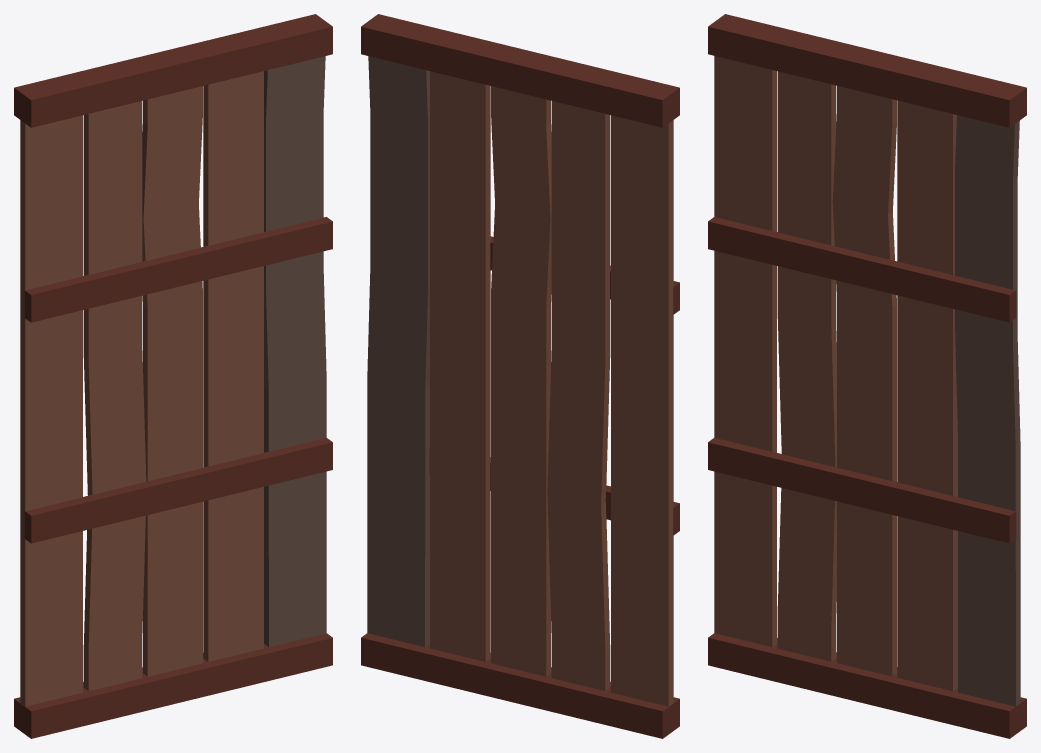
File: ScrapWall2.fbx
3 renders of one model, left to right at view 1: azimuth 30°, elevation 25°; view 2: azimuth 150°, elevation 25°; view 3: azimuth 330°, elevation 25°, orthographic.
Parts seen in each view (by area): view 1: Cube; view 2: Cube; view 3: Cube.
Part boxes in pixels (box(x1,y1,x2,y2)): Cube: box(14, 14, 332, 738); Cube: box(361, 14, 679, 738); Cube: box(708, 14, 1026, 738).
Bounding box in the file's own units: 200 × 405 × 19.8.
